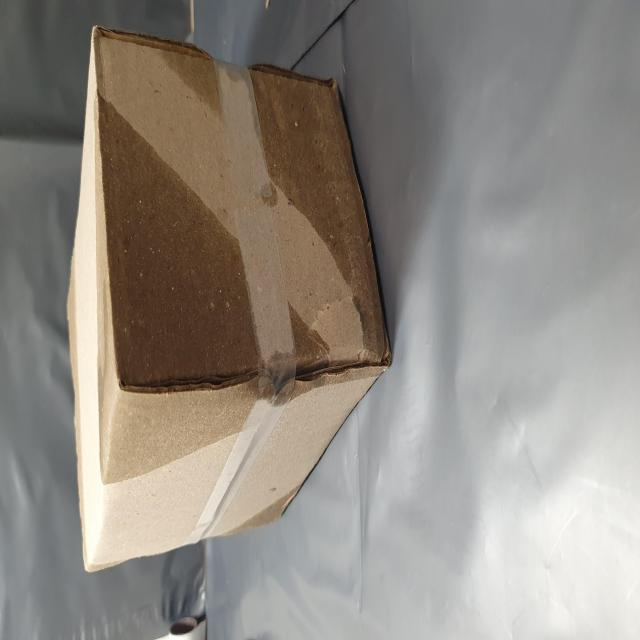wet: (90, 158, 341, 640)
